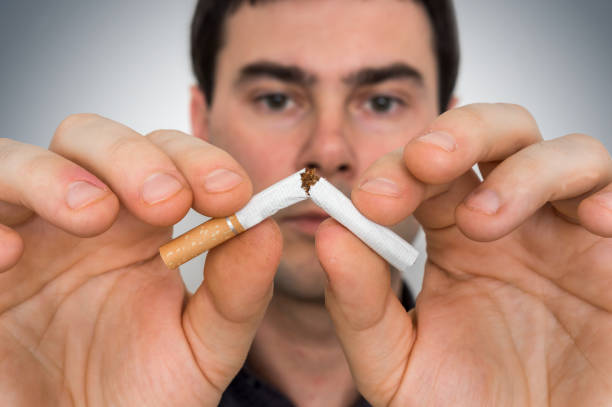cigarette: (158, 169, 312, 269), (307, 175, 420, 272)
